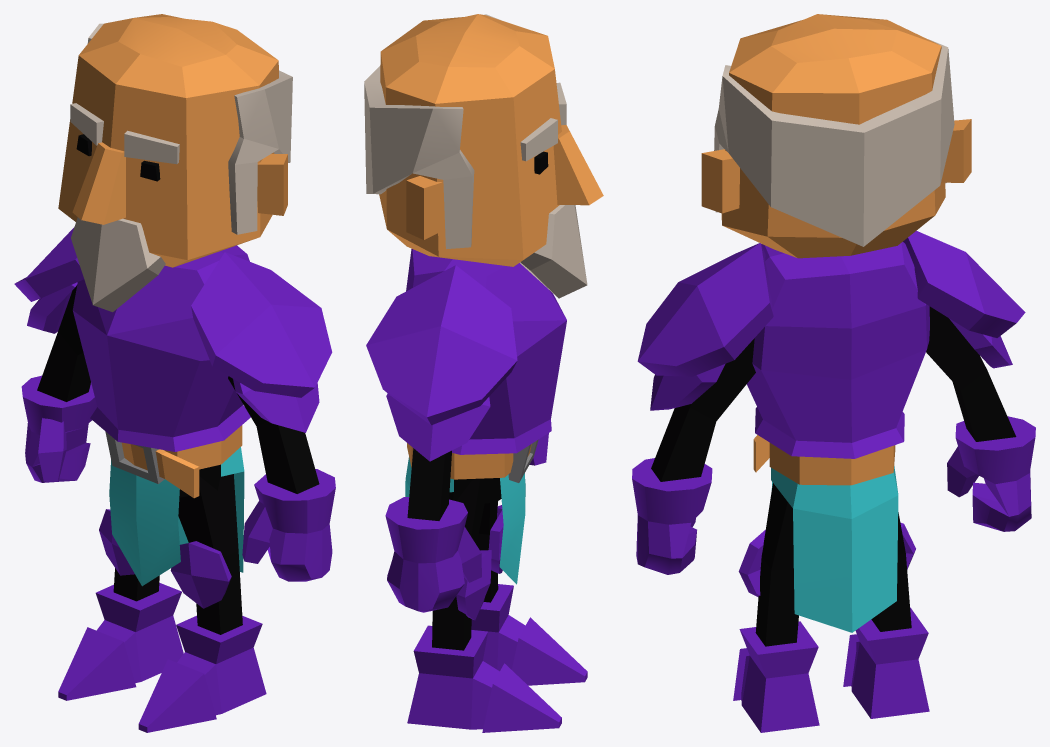
The model's file is npc6.glb.
The picture shows the model from 3 angles, left to right: view 1: azimuth 30°, elevation 25°; view 2: azimuth 150°, elevation 25°; view 3: azimuth 270°, elevation 25°; orthographic projection. The views are drawn at different scales.
Visible parts, largest first — view 1: npc6; view 2: npc6; view 3: npc6.
Part boxes in pixels (x1,y1,x2,y2): npc6: (14,14,335,732); npc6: (364,14,603,732); npc6: (632,14,1035,732).
Size of the model in its own units: 0.5453 by 1.64 by 0.8862.
Materials: 1 (1 with a texture image).
